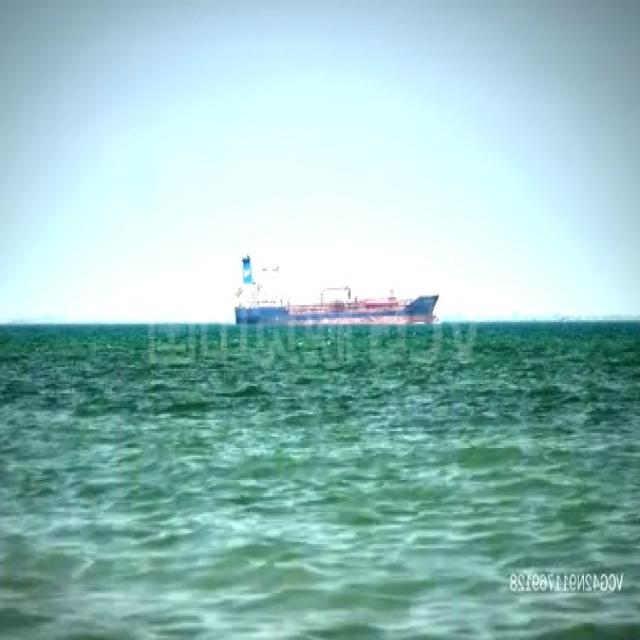cargoship: (234, 250, 446, 326)
